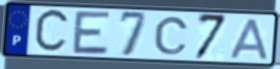7: (193, 12, 229, 62), (117, 10, 148, 59)
A: (228, 17, 270, 62)
C: (33, 7, 72, 56), (153, 16, 190, 57)
E: (71, 10, 113, 57)
